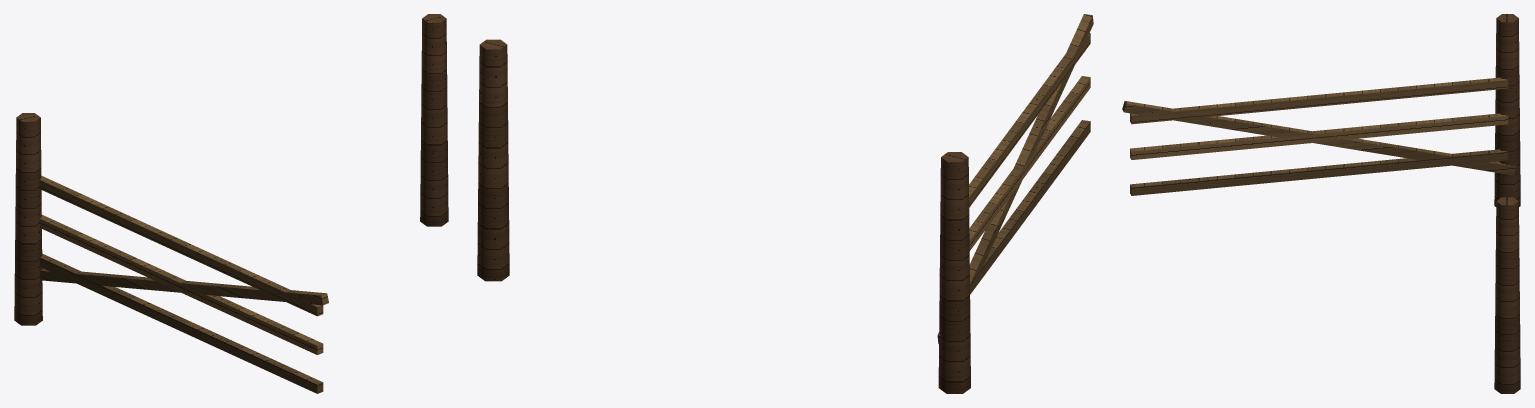
The model's file is porteira.glb.
3 renders of one model, left to right at view 1: azimuth 30°, elevation 25°; view 2: azimuth 150°, elevation 25°; view 3: azimuth 270°, elevation 25°, orthographic. The views are drawn at different scales.
Parts seen in each view (by area): view 1: porteira_madeira; view 2: porteira_madeira; view 3: porteira_madeira.
Part boxes in pixels (<box>): porteira_madeira: <box>14,14,448,393</box>; porteira_madeira: <box>477,14,1093,393</box>; porteira_madeira: <box>1122,14,1520,393</box>.
Bounding box in the file's own units: 4.84 × 2.2 × 4.23.
1 material, 1 textured.
